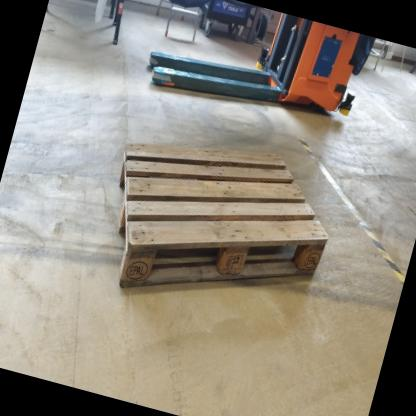BoxFace: (116, 143, 334, 294)
